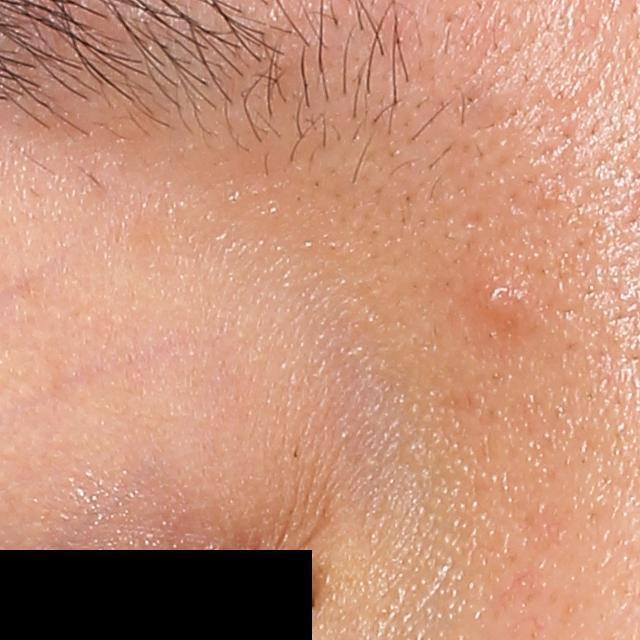papule: (468, 277, 535, 328)
